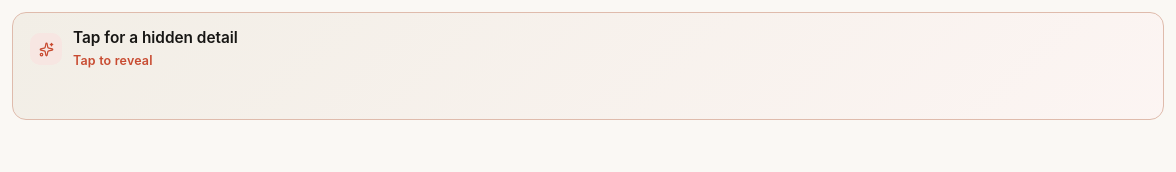
Test: Schema-driven ComponentRegistry & safe rendering › renders interactive FactRevealCard and toggles reveal content on click
This screenshot has width=1176, height=172.
Expected: the text "Octopuses have three hearts" is not shown
Click the button "Tap for a hidden detail Tap to reveal". click: (46, 49)
box: [13,13,1163,119]
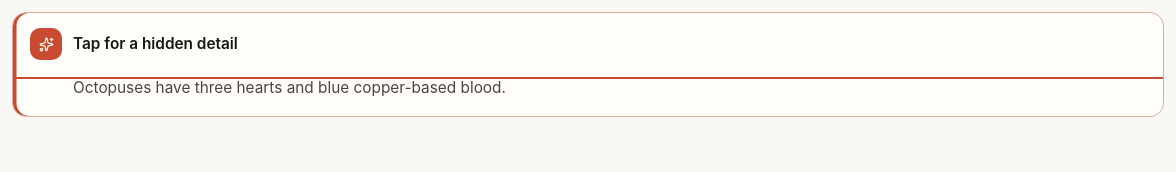
Result: the button "Tap for a hidden detail" is expanded at [13,13,1163,75]
Result: the text "Octopuses have three hearts and blue copper-based blood." is shown at [73,78,506,97]
